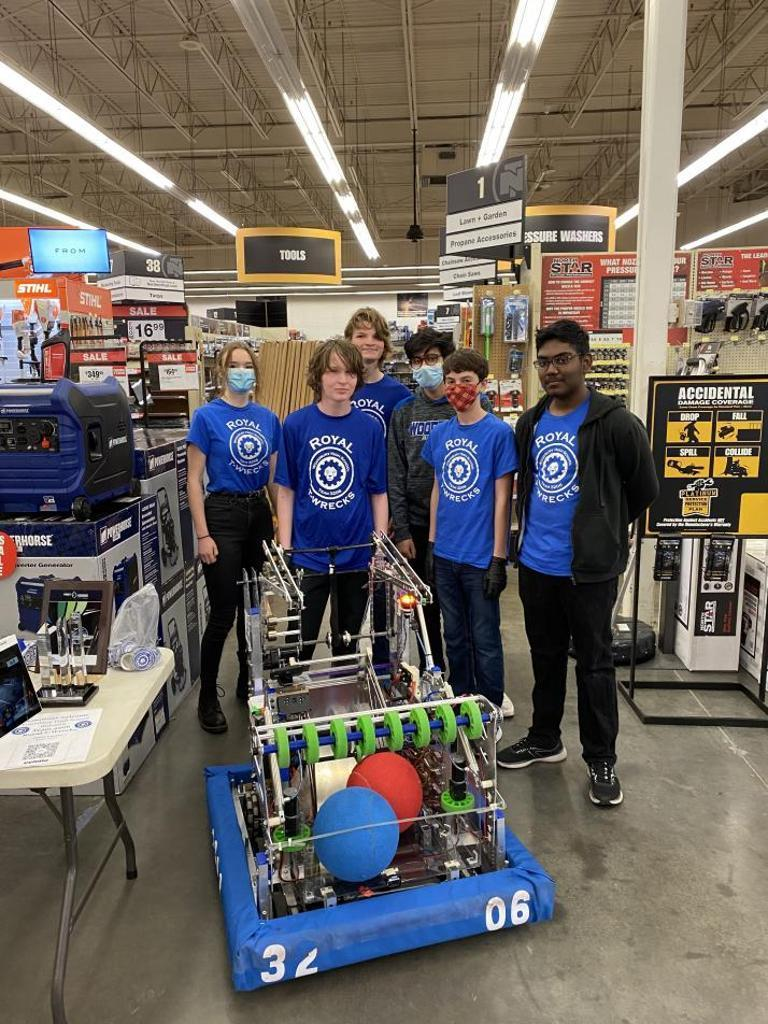robot: (197, 524, 561, 1001)
